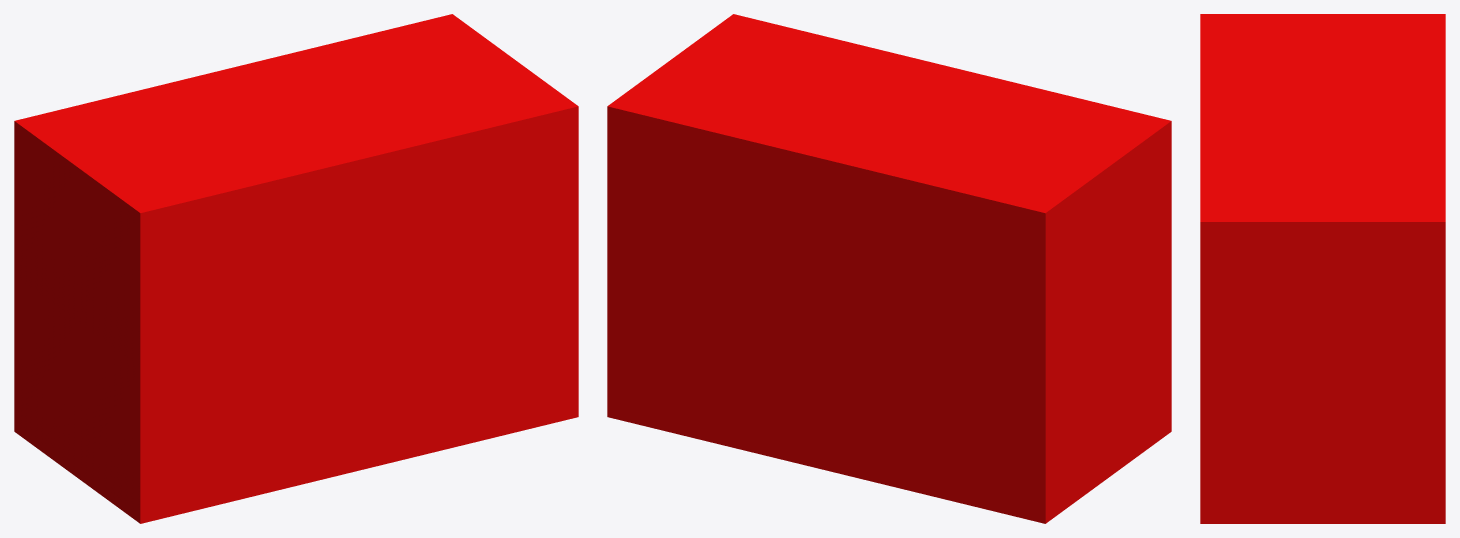
The model's file is index_distal_rvs_col.dae.
The picture shows the model from 3 angles, left to right: view 1: azimuth 30°, elevation 25°; view 2: azimuth 150°, elevation 25°; view 3: azimuth 270°, elevation 25°; orthographic projection. The views are drawn at different scales.
Parts seen in each view (by area): view 1: node0; view 2: node0; view 3: node0.
Part boxes in pixels (box(x1,y1,x2,y2)): node0: box(14, 14, 578, 523); node0: box(607, 14, 1171, 523); node0: box(1200, 14, 1445, 523).
Bounding box in the file's own units: 0.0162 × 0.011 × 0.00806.
